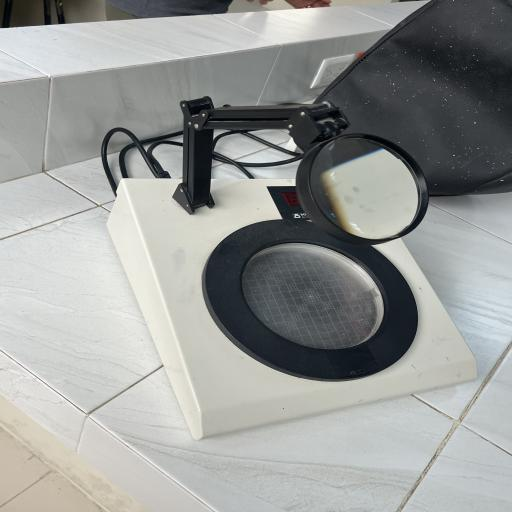Contador_Colonias_CC1: (93, 91, 491, 446)
